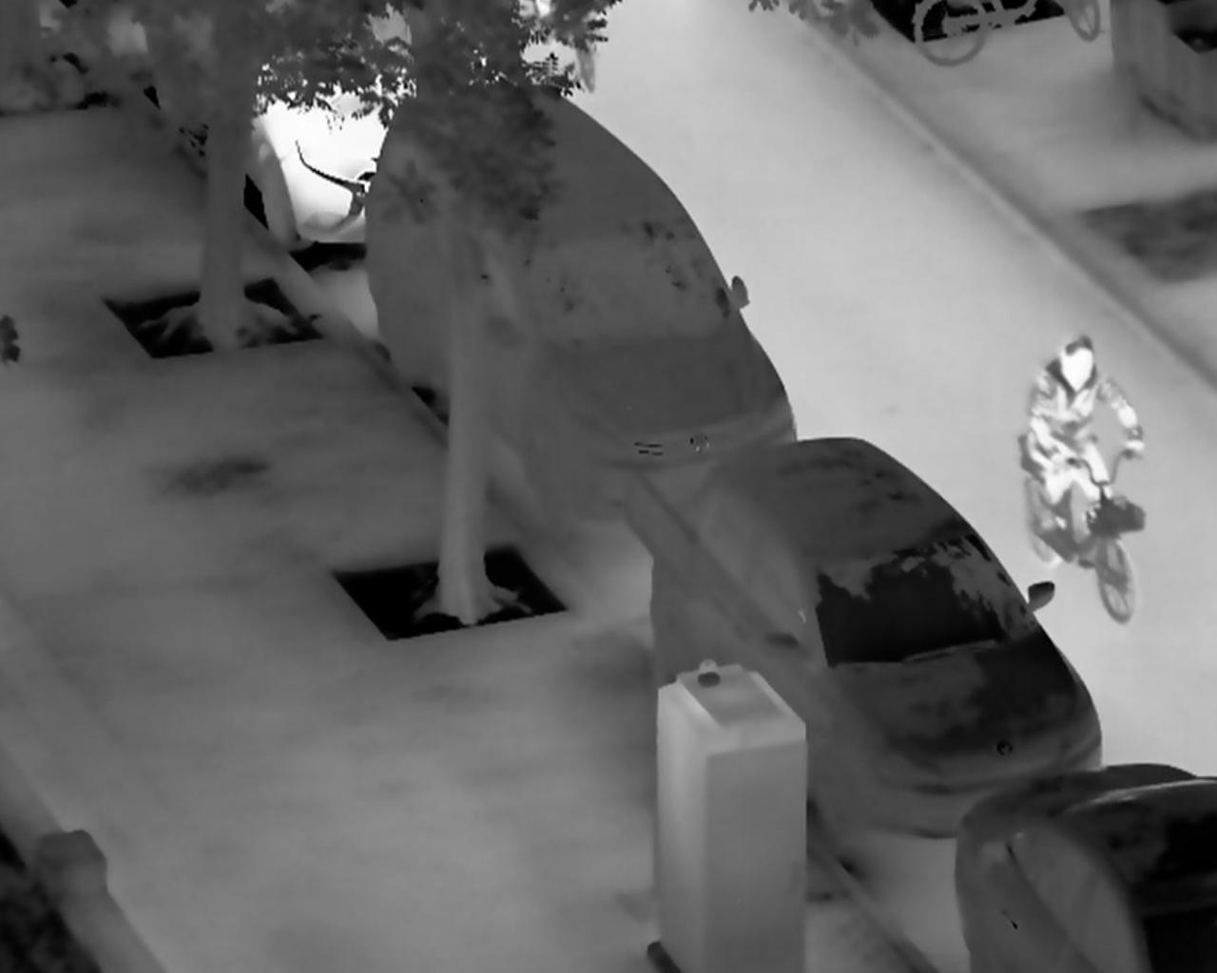person: (1022, 331, 1146, 550)
